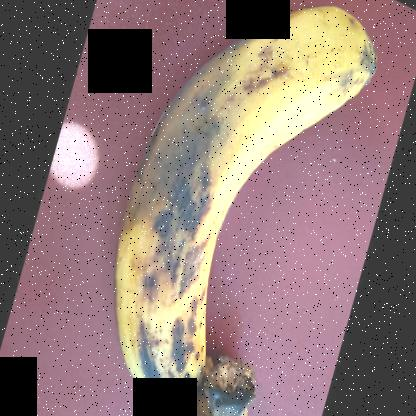overripe: (97, 0, 390, 412)
